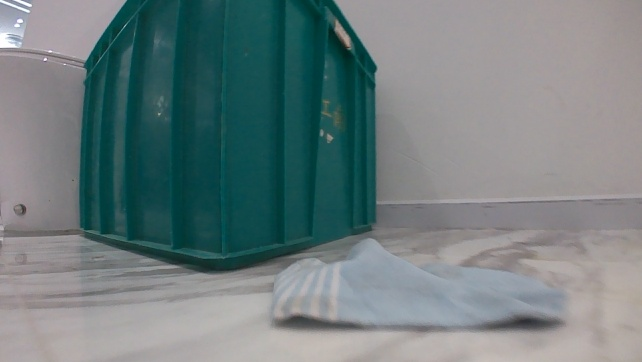socks: (266, 234, 571, 330)
toilet: (0, 42, 87, 236)
